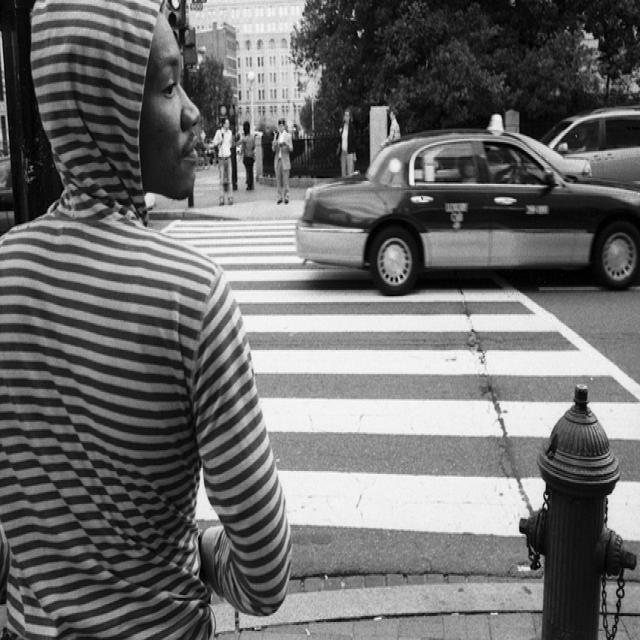fire_hydrant: (518, 387, 635, 640)
